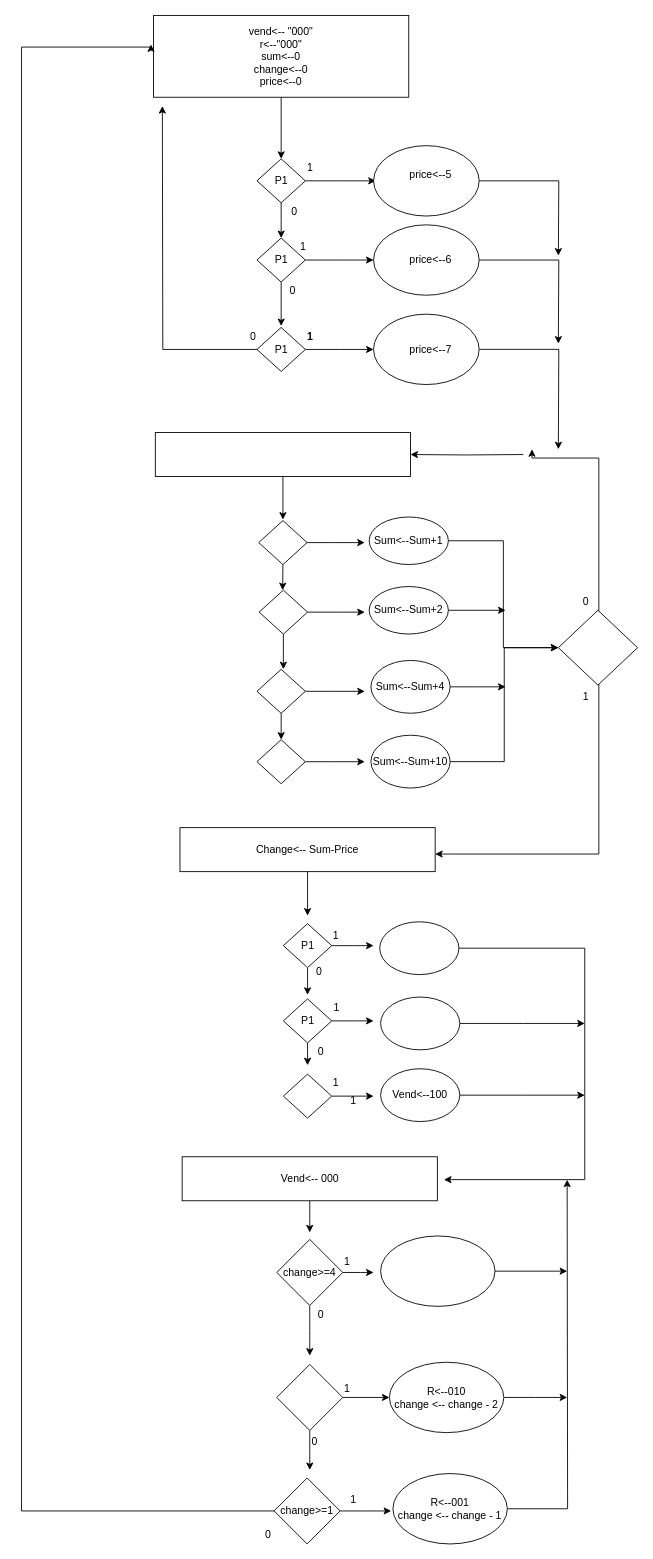
This 653x1559 diagram has some shape labels left out. The centre of each missing label's shape, as x and y in pixels:
c0: the point at 282,542
C1: the point at 283,611
C2: the point at 280,690
C3: the point at 280,761
change>=2: the point at 309,1397
P3: the point at 307,1095
R<--100 change <-- change - 4: the point at 437,1270
sum>=price: the point at 597,647
Vend<-- 001: the point at 419,948
Vend<-- 010: the point at 420,1023
